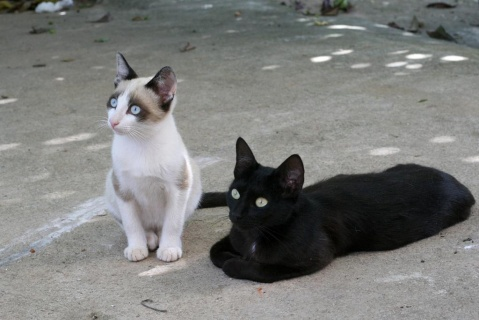Cat: (193, 134, 479, 282), (100, 51, 206, 269)
